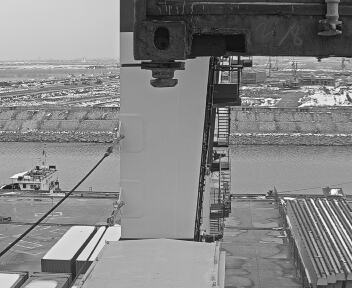twist_lock_1: (133, 52, 189, 94)
